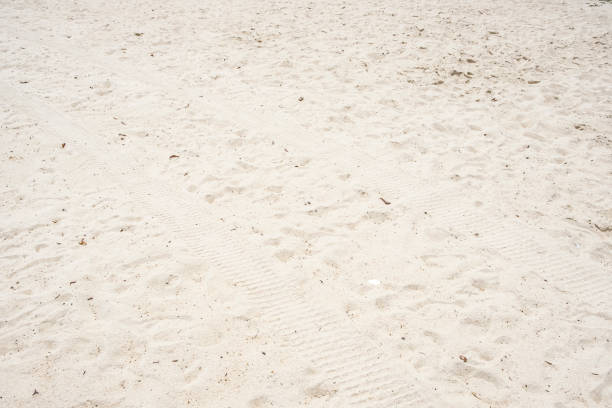vehicle_track: (0, 85, 431, 406), (30, 101, 421, 406)
